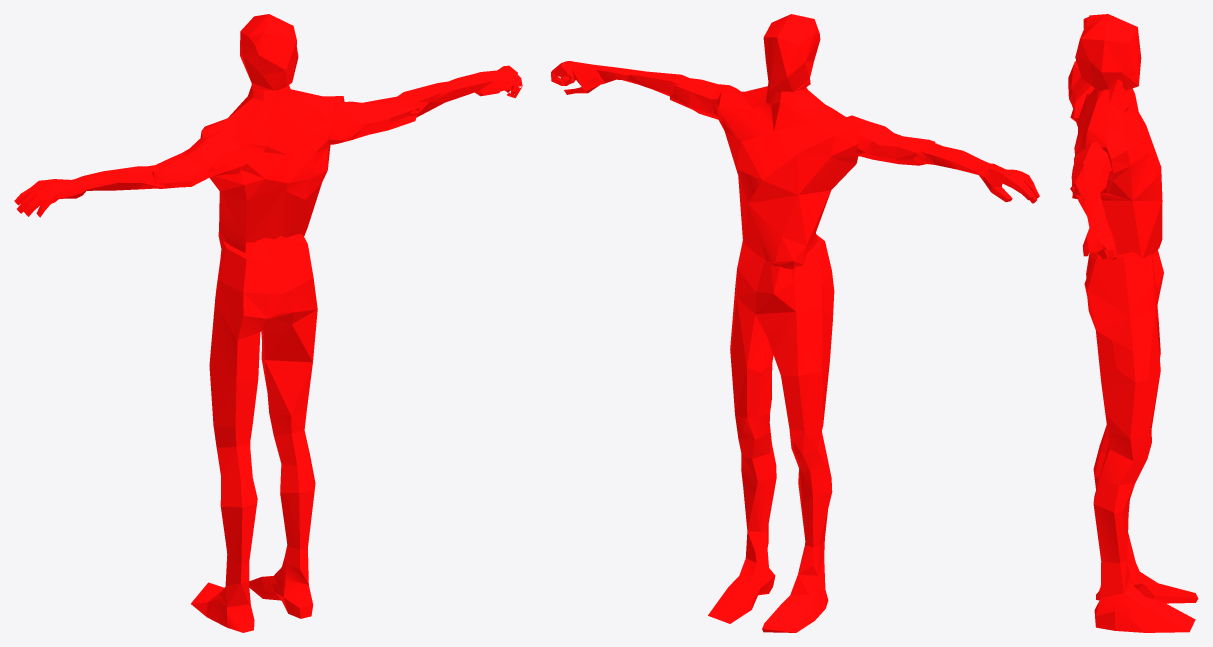
File: red_crystal_enemy_shards.glb
3 views of the same model, side by side, from view 1: azimuth 30°, elevation 25°; view 2: azimuth 150°, elevation 25°; view 3: azimuth 270°, elevation 25° (orthographic). The views are drawn at different scales.
Parts seen in each view (by area): view 1: SHARD_m_torso_0, SHARD_m_hips_2, SHARD_m_thigh_L_2, SHARD_m_hips_1, SHARD_m_shin_L_2, SHARD_m_shin_L_3, SHARD_m_thigh_R_0, SHARD_m_shin_R_5, SHARD_m_upper_arm_L_0, SHARD_m_shin_R_3, SHARD_m_shin_L_1, SHARD_m_upper_arm_R_2 (+13 smaller); view 2: SHARD_m_torso_0, SHARD_m_hips_2, SHARD_m_thigh_L_6, SHARD_m_shin_L_2, SHARD_m_shin_R_3, SHARD_m_shin_L_1, SHARD_m_hips_1, SHARD_m_thigh_R_5, SHARD_m_thigh_R_0, SHARD_m_thigh_L_5, SHARD_m_thigh_L_1, SHARD_m_shin_L_3 (+18 smaller); view 3: SHARD_m_torso_0, SHARD_m_hips_1, SHARD_m_thigh_R_4, SHARD_m_shin_R_0, SHARD_m_shin_R_5, SHARD_m_shin_R_4, SHARD_m_head_3, SHARD_m_thigh_R_8, SHARD_m_head_8, SHARD_m_thigh_R_5, SHARD_m_forearm_R_0, SHARD_m_shin_R_2 (+17 smaller).
Boxes of the visible parts, left/top/right/bottom form: SHARD_m_torso_0: left=200, top=85, right=344, bottom=252; SHARD_m_hips_2: left=215, top=239, right=294, bottom=340; SHARD_m_thigh_L_2: left=209, top=365, right=258, bottom=447; SHARD_m_hips_1: left=260, top=234, right=317, bottom=312; SHARD_m_shin_L_2: left=220, top=477, right=249, bottom=603; SHARD_m_shin_L_3: left=216, top=443, right=257, bottom=563; SHARD_m_thigh_R_0: left=261, top=359, right=312, bottom=415; SHARD_m_shin_R_5: left=274, top=430, right=315, bottom=493; SHARD_m_upper_arm_L_0: left=182, top=130, right=248, bottom=177; SHARD_m_shin_R_3: left=280, top=493, right=308, bottom=584; SHARD_m_shin_L_1: left=206, top=582, right=254, bottom=632; SHARD_m_upper_arm_R_2: left=329, top=101, right=379, bottom=144; SHARD_m_torso_0: left=715, top=83, right=860, bottom=268; SHARD_m_hips_2: left=773, top=234, right=834, bottom=319; SHARD_m_thigh_L_6: left=766, top=307, right=821, bottom=375; SHARD_m_shin_L_2: left=798, top=456, right=832, bottom=575; SHARD_m_shin_R_3: left=745, top=478, right=776, bottom=563; SHARD_m_shin_L_1: left=780, top=557, right=828, bottom=620; SHARD_m_hips_1: left=735, top=240, right=779, bottom=296; SHARD_m_thigh_R_5: left=731, top=297, right=754, bottom=413; SHARD_m_thigh_R_0: left=735, top=364, right=772, bottom=418; SHARD_m_thigh_L_5: left=798, top=307, right=832, bottom=385; SHARD_m_thigh_L_1: left=781, top=375, right=816, bottom=454; SHARD_m_shin_L_3: left=792, top=431, right=831, bottom=539; SHARD_m_torso_0: left=1074, top=79, right=1162, bottom=260; SHARD_m_hips_1: left=1086, top=250, right=1163, bottom=329; SHARD_m_thigh_R_4: left=1101, top=340, right=1150, bottom=438; SHARD_m_shin_R_0: left=1094, top=584, right=1162, bottom=632; SHARD_m_shin_R_5: left=1093, top=444, right=1146, bottom=512; SHARD_m_shin_R_4: left=1093, top=485, right=1134, bottom=563; SHARD_m_head_3: left=1075, top=38, right=1129, bottom=72; SHARD_m_thigh_R_8: left=1095, top=318, right=1132, bottom=382; SHARD_m_head_8: left=1080, top=14, right=1137, bottom=42; SHARD_m_thigh_R_5: left=1141, top=311, right=1160, bottom=435; SHARD_m_forearm_R_0: left=1082, top=218, right=1116, bottom=260; SHARD_m_shin_R_2: left=1146, top=602, right=1195, bottom=632.
Bounding box in the file's own units: 1.69 × 1.95 × 0.385.
